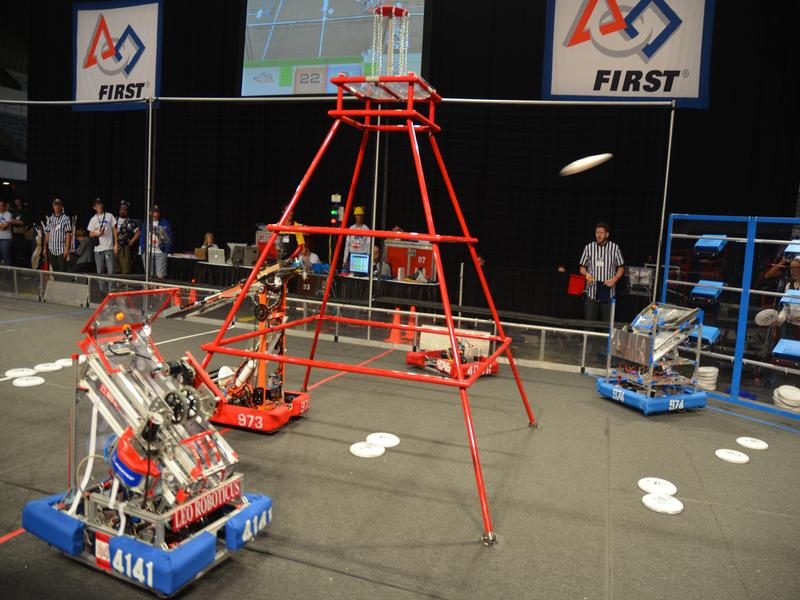robot: (25, 319, 267, 597), (198, 271, 310, 433), (598, 305, 706, 418), (414, 337, 499, 378)
